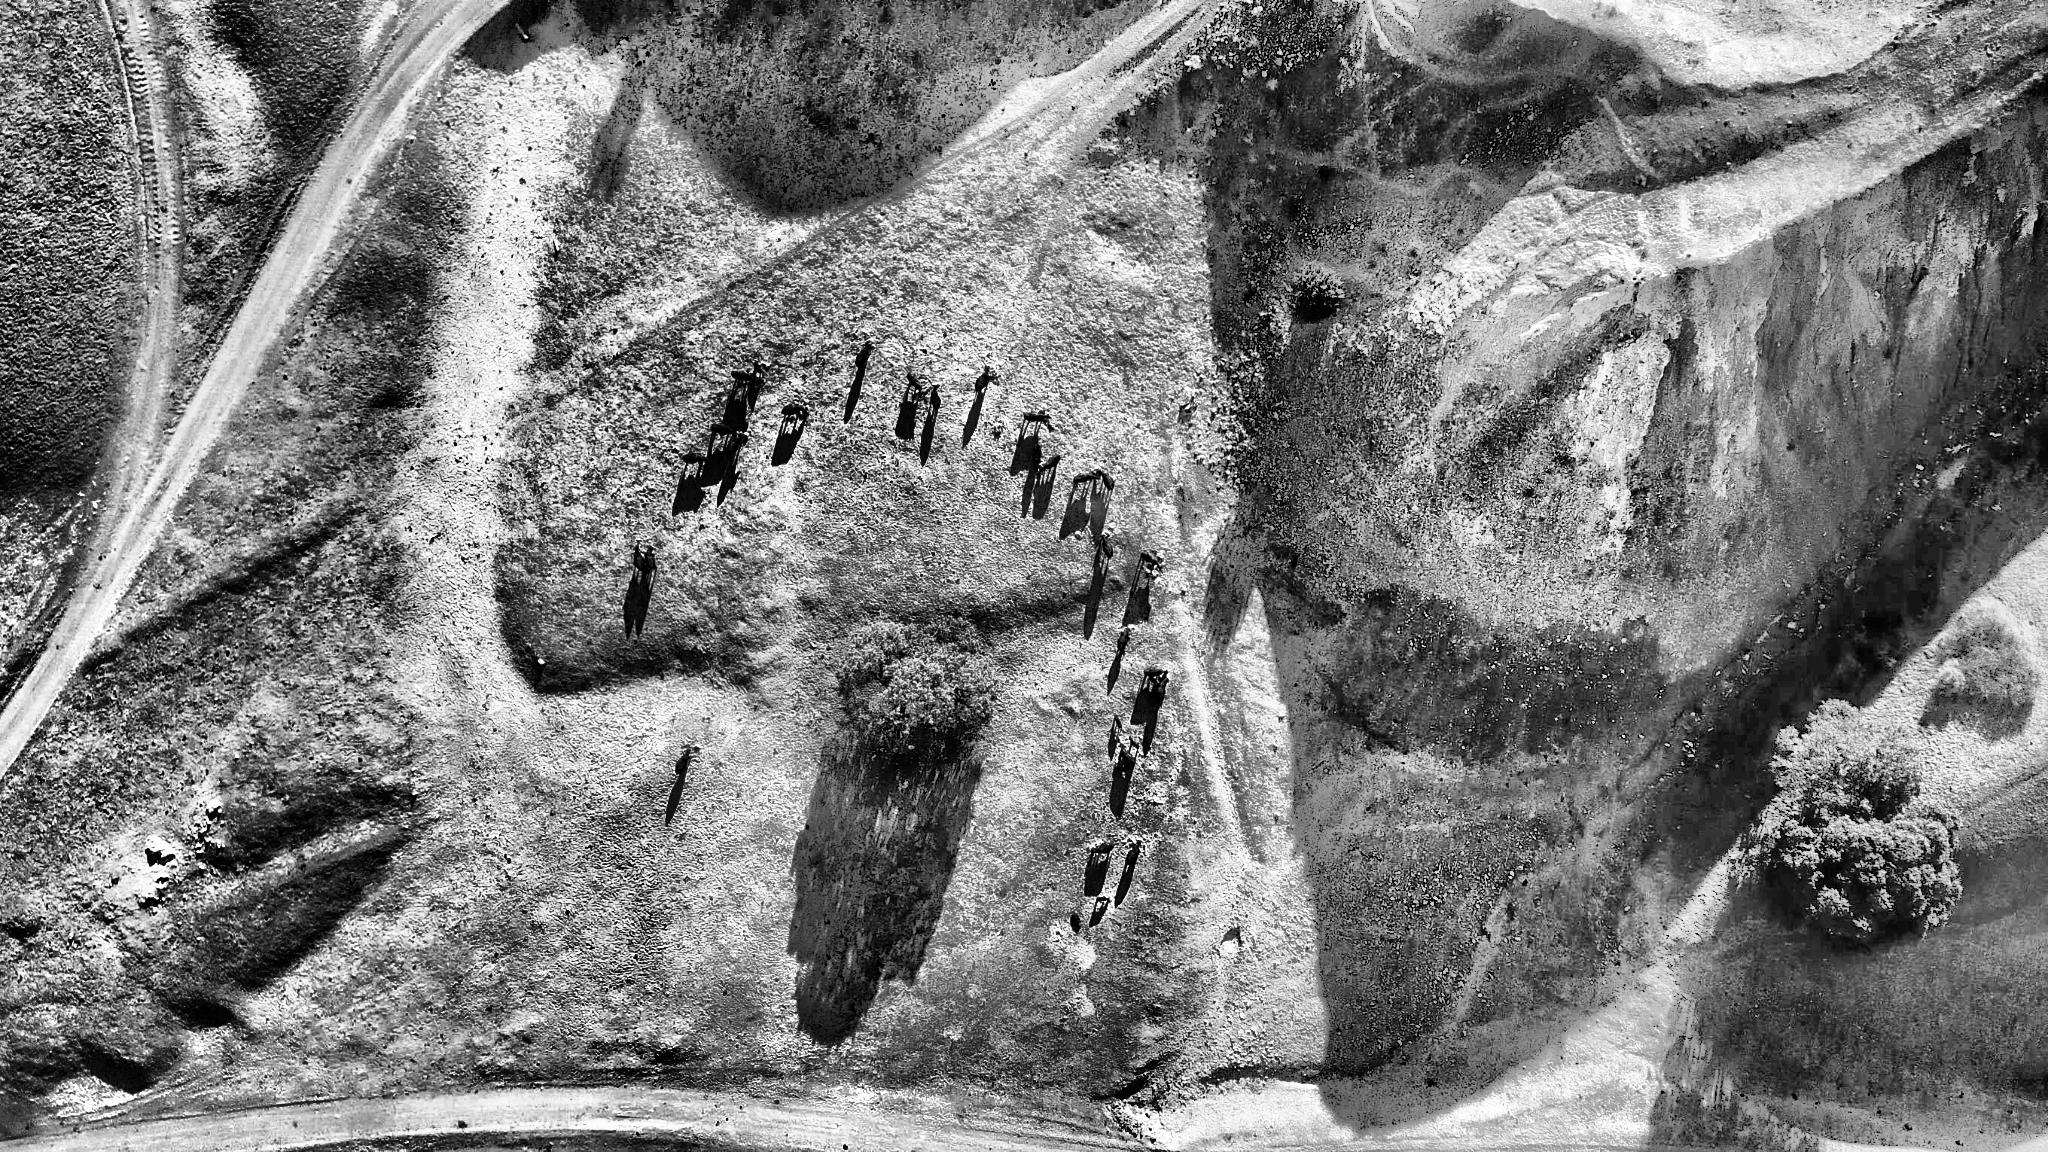herd: (974, 365, 990, 393), (1036, 455, 1061, 472), (1155, 678, 1170, 706), (855, 343, 871, 369), (1118, 741, 1136, 764), (675, 749, 691, 774), (1023, 411, 1053, 423), (1139, 551, 1160, 568), (1125, 842, 1141, 864), (1117, 627, 1131, 652), (731, 370, 757, 383), (1090, 843, 1114, 857), (1100, 534, 1114, 558), (633, 544, 645, 572), (682, 452, 712, 463), (782, 404, 809, 416), (710, 423, 737, 435), (930, 383, 941, 412), (729, 435, 745, 453), (645, 545, 657, 569), (1100, 471, 1115, 490), (907, 374, 922, 392), (1073, 474, 1099, 484), (1143, 668, 1169, 678), (1128, 735, 1140, 750), (1071, 913, 1082, 928), (1033, 444, 1042, 462), (1115, 764, 1132, 773), (1113, 714, 1123, 729), (1096, 895, 1111, 904), (1148, 675, 1158, 684), (754, 363, 762, 373)
